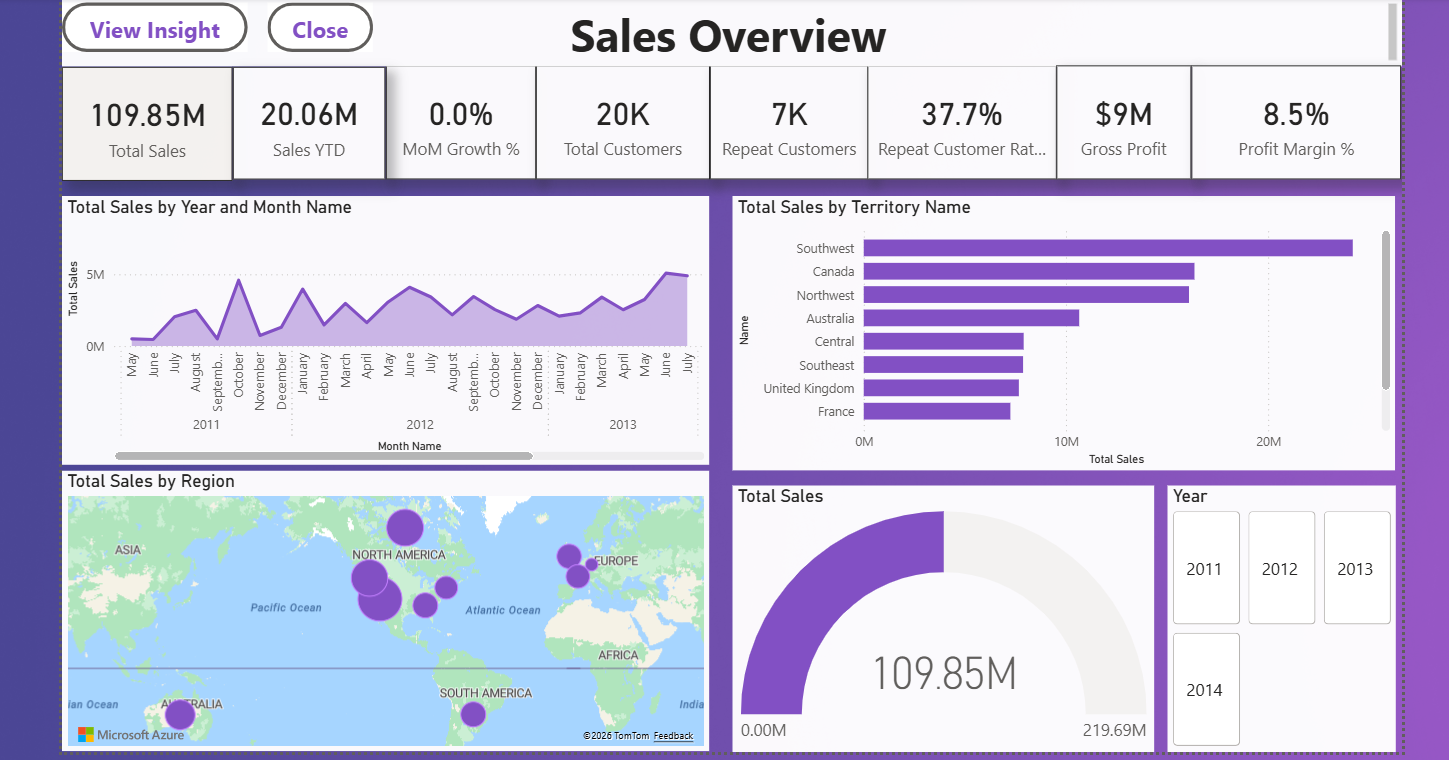

This screenshot's page, from the dashboard's own definition file:
{"tool":"powerbi","page":{"name":"Sales Overview","canvas":[1280,720],"ordinal":0},"visuals":[{"type":"card","fields":{"Values":["FactSales.Total Sales"]},"box":[0,65.5,163,108.6],"z":0},{"type":"card","fields":{"Values":["FactSales.MoM Growth %"]},"box":[309,65.1,143.1,109],"z":1000},{"type":"card","fields":{"Values":["FactSales.Total Customers"]},"box":[452.2,65.1,165.9,109],"z":2000},{"type":"card","fields":{"Values":["FactSales.Repeat Customers"]},"box":[618.1,65.1,151.3,109],"z":3000},{"type":"card","fields":{"Values":["FactSales.Repeat Customer Rate %"]},"box":[769.4,65.1,180.5,109],"z":4000},{"type":"stackedAreaChart","fields":{"Category":["DimDate.Year","DimDate.Month Name","DimDate.Month Number"],"Y":["FactSales.Total Sales"]},"box":[0,188.7,618.1,257],"z":5000},{"type":"barChart","title":"Total Sales by Territory Name","fields":{"Category":["DimTerritory.Name"],"Y":["FactSales.Total Sales"]},"box":[640.9,188.7,632.7,261.9],"z":6000},{"type":"azureMap","title":"Total Sales by Region ","fields":{"Category":["DimTerritory.Name"],"Size":["FactSales.Total Sales"]},"box":[0,451.2,617.8,268],"z":7000},{"type":"gauge","fields":{"Y":["FactSales.Total Sales"]},"box":[640.5,464.9,402.8,254.4],"z":8000},{"type":"advancedSlicerVisual","fields":{"Values":["DimDate.Year"]},"box":[1055.4,464.9,218,254.4],"z":9000},{"type":"textbox","box":[0,0,1279.7,65.5],"z":10000},{"type":"card","fields":{"Values":["FactSales.Sales YTD"]},"box":[163,65.5,145.4,107],"z":11000},{"type":"card","fields":{"Values":["FactSales.Gross Profit"]},"box":[949.9,65.1,128.5,109],"z":12000},{"type":"card","fields":{"Values":["FactSales.Profit Margin %"]},"box":[1078.4,65.1,200.1,109],"z":13000},{"type":"actionButton","box":[0,4.9,177.3,47.2],"z":15000},{"type":"actionButton","box":[196.8,4.9,100.8,47.2],"z":16000}]}

Visuals, with their boxes in screenshot pixels (x1, y1, x2, y2):
card - FactSales.Total Sales: <bbox>64, 64, 233, 177</bbox>
card - FactSales.MoM Growth %: <bbox>385, 64, 534, 177</bbox>
card - FactSales.Total Customers: <bbox>534, 64, 706, 177</bbox>
card - FactSales.Repeat Customers: <bbox>706, 64, 863, 177</bbox>
card - FactSales.Repeat Customer Rate %: <bbox>863, 64, 1051, 177</bbox>
stackedAreaChart - DimDate.Year x DimDate.Month Name: <bbox>64, 192, 706, 459</bbox>
"Total Sales by Territory Name" barChart: <bbox>730, 192, 1387, 464</bbox>
"Total Sales by Region " azureMap: <bbox>64, 465, 706, 743</bbox>
gauge - FactSales.Total Sales: <bbox>730, 479, 1148, 743</bbox>
advancedSlicerVisual - DimDate.Year: <bbox>1161, 479, 1387, 743</bbox>
textbox: <bbox>64, 0, 1394, 64</bbox>
card - FactSales.Sales YTD: <bbox>233, 64, 385, 175</bbox>
card - FactSales.Gross Profit: <bbox>1051, 64, 1184, 177</bbox>
card - FactSales.Profit Margin %: <bbox>1184, 64, 1392, 177</bbox>
actionButton: <bbox>64, 1, 248, 50</bbox>
actionButton: <bbox>269, 1, 373, 50</bbox>
